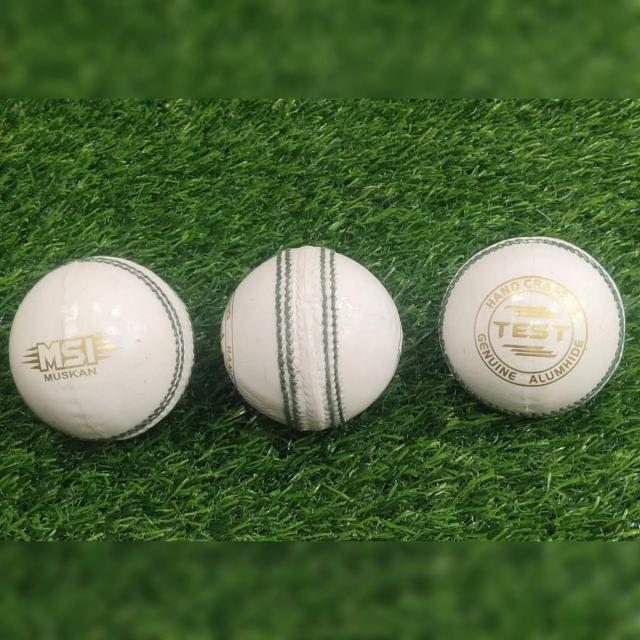ball: (7, 245, 201, 448), (214, 237, 408, 440), (433, 230, 628, 428)
